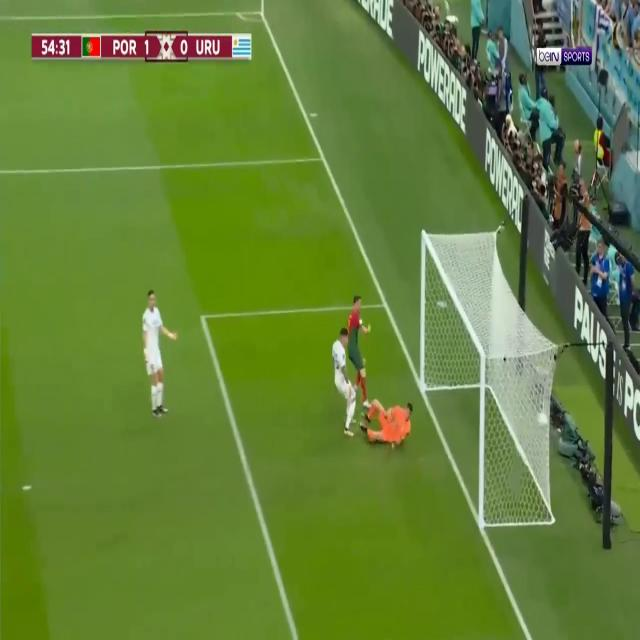Ball: (538, 409, 548, 427)
GoalKeeper: (360, 396, 416, 448)
TEAM 1: (346, 290, 373, 410)
TEAM 2: (139, 286, 180, 419), (331, 324, 357, 438)
